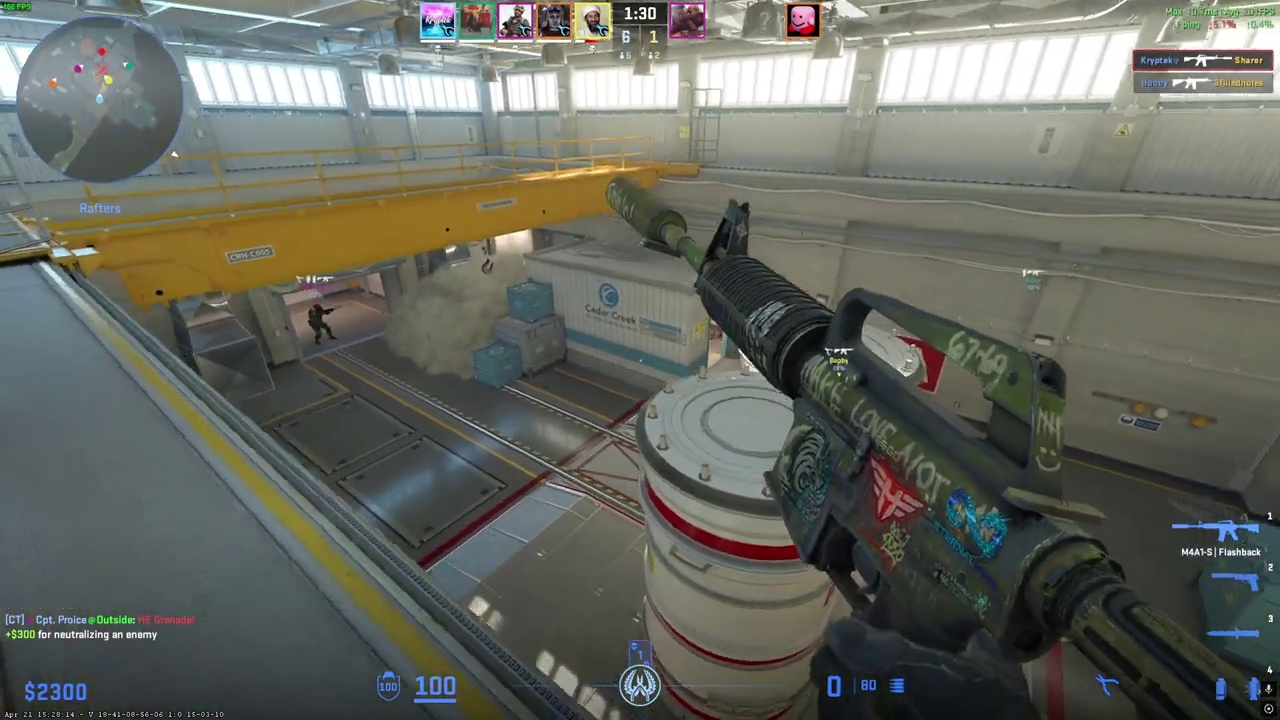CT: (308, 303, 333, 345)
